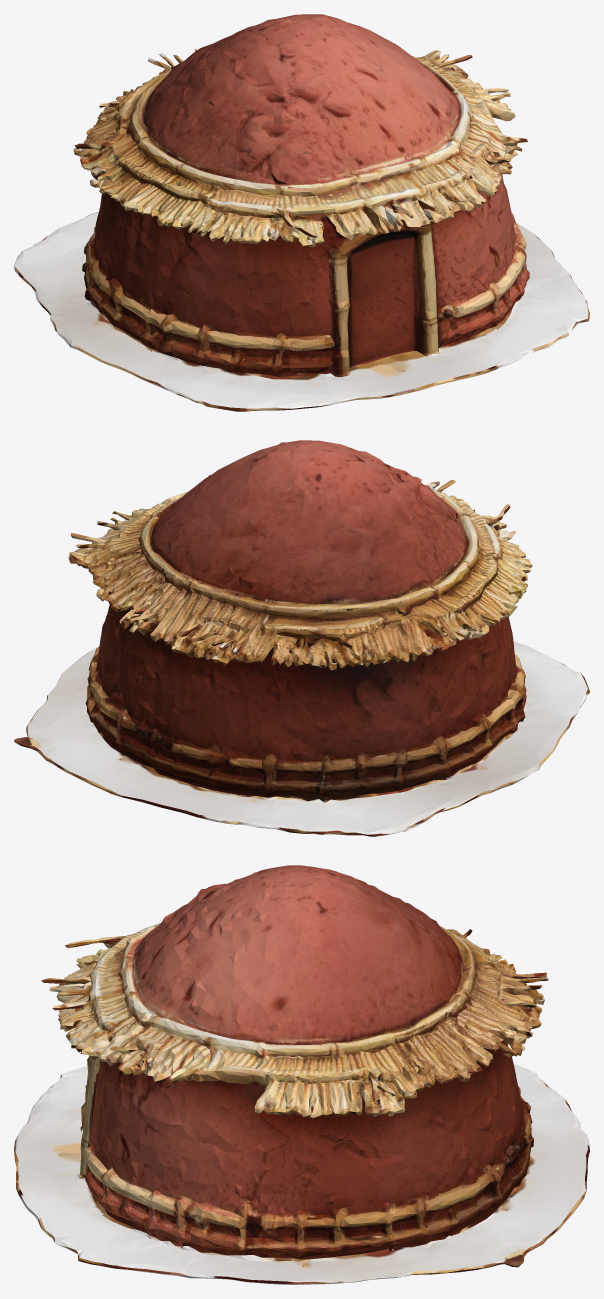
File: traveler_env_coast_cakon_tomie_clay_dome_00001_.glb
The picture shows the model from 3 angles, top to bottom: view 1: azimuth 30°, elevation 25°; view 2: azimuth 150°, elevation 25°; view 3: azimuth 270°, elevation 25°; orthographic projection. The views are drawn at different scales.
Visible parts, largest first — view 1: temp_mesh.ply; view 2: temp_mesh.ply; view 3: temp_mesh.ply.
Boxes of the visible parts, bbox=[...] form: temp_mesh.ply: bbox=[14, 14, 589, 411]; temp_mesh.ply: bbox=[14, 440, 589, 836]; temp_mesh.ply: bbox=[14, 865, 589, 1284].
Bounding box in the file's own units: 1.97 × 1.09 × 1.97.
1 material, 1 textured.
